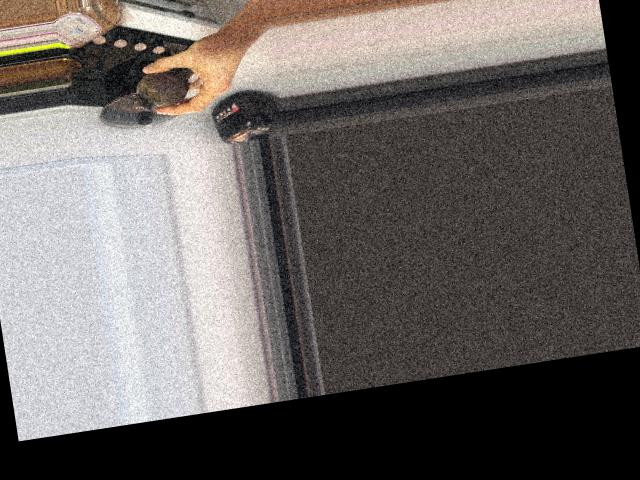beet: (129, 66, 194, 111)
